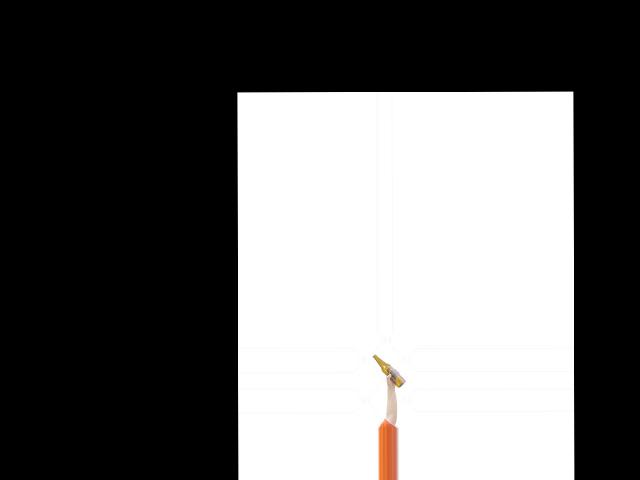beer: (373, 354, 406, 388)
